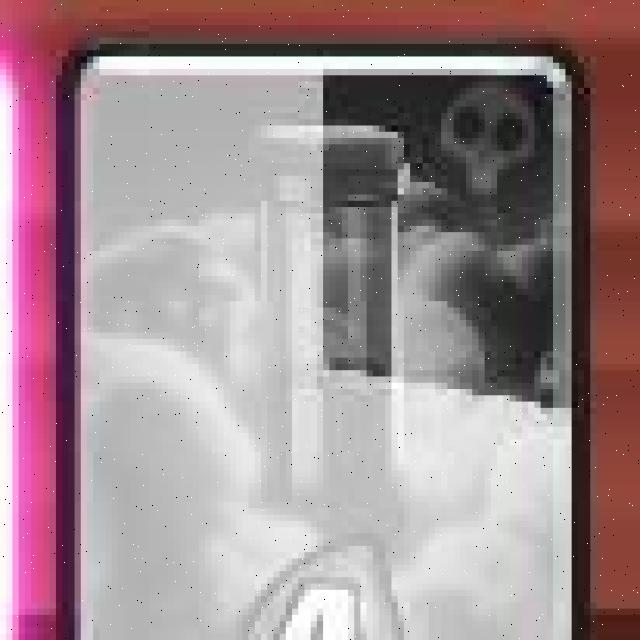Poison: (75, 51, 587, 640)
